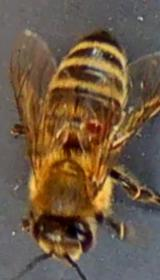varroa_mite: (82, 112, 108, 142)
